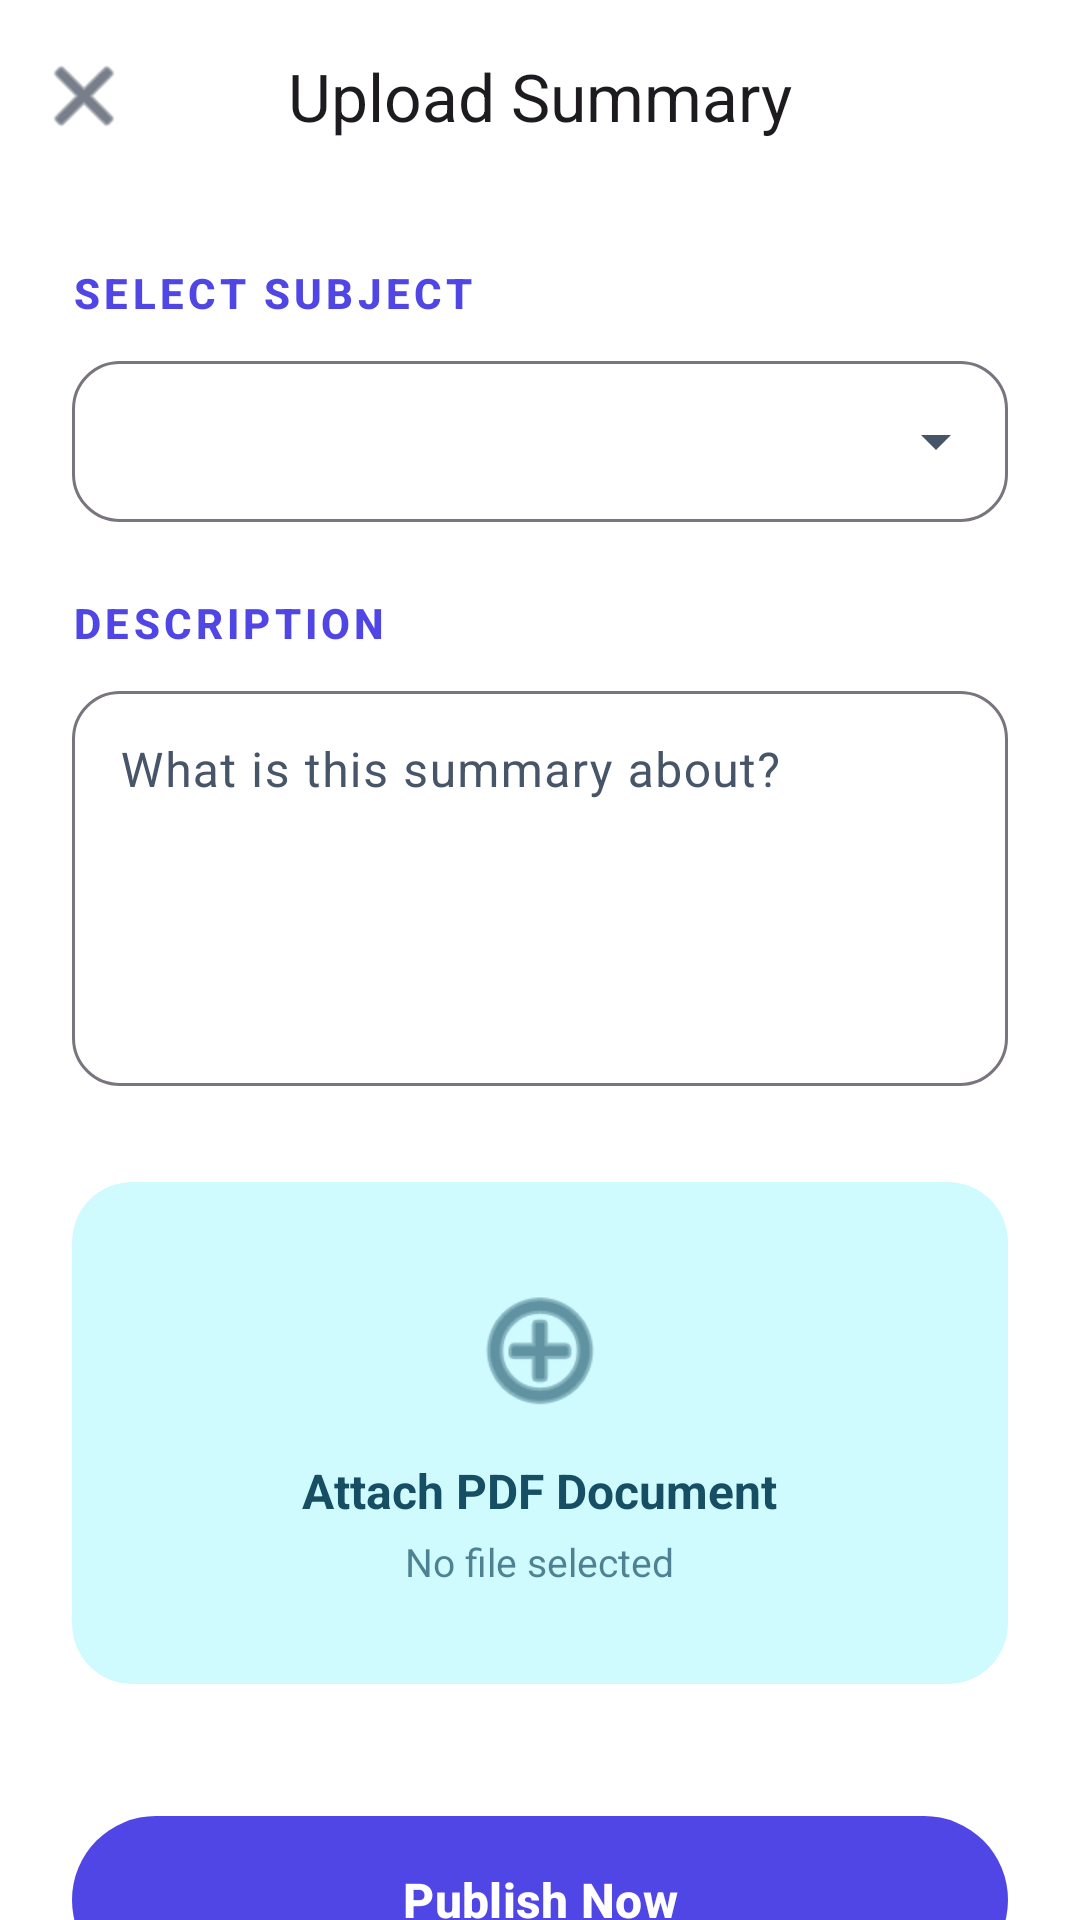

Where to tap for icons on this 1080*1920 app screen, as [x,y]:
add: [540,1350]
